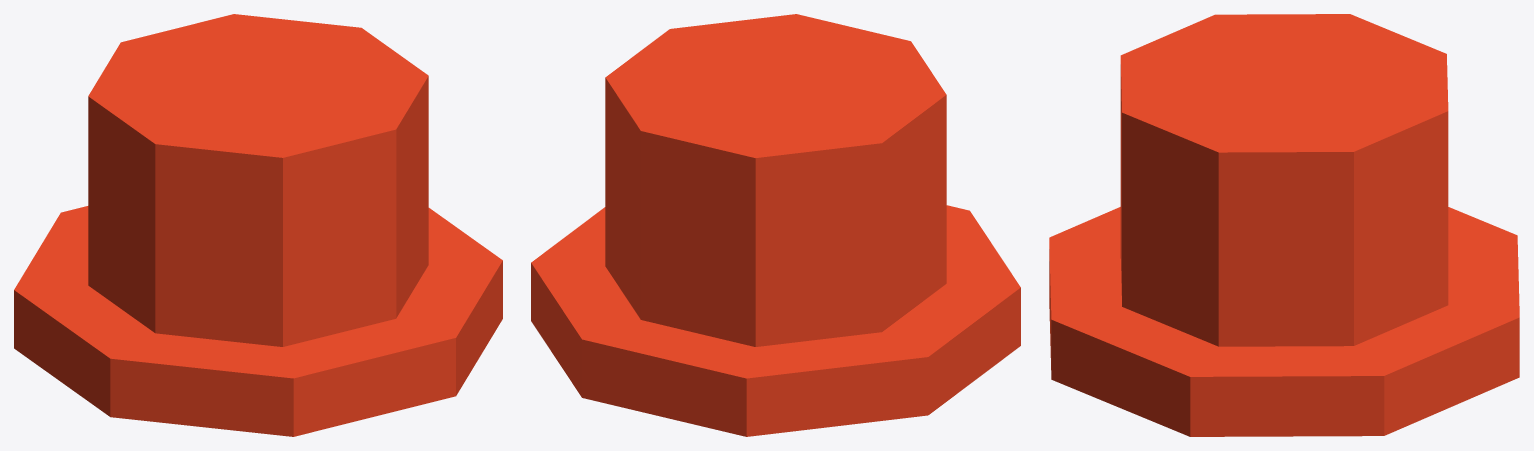
File: SM_Spray_Top_City.fbx
3 renders of one model, left to right at view 1: azimuth 30°, elevation 25°; view 2: azimuth 150°, elevation 25°; view 3: azimuth 270°, elevation 25°, orthographic. The views are drawn at different scales.
Parts seen in each view (by area): view 1: SM_Spray_Top_City; view 2: SM_Spray_Top_City; view 3: SM_Spray_Top_City.
Part boxes in pixels (x1,y1,x2,y2): SM_Spray_Top_City: [14, 14, 502, 436]; SM_Spray_Top_City: [531, 14, 1020, 436]; SM_Spray_Top_City: [1049, 14, 1519, 436].
Size of the model in its own units: 0.0468 by 0.0279 by 0.0468.
